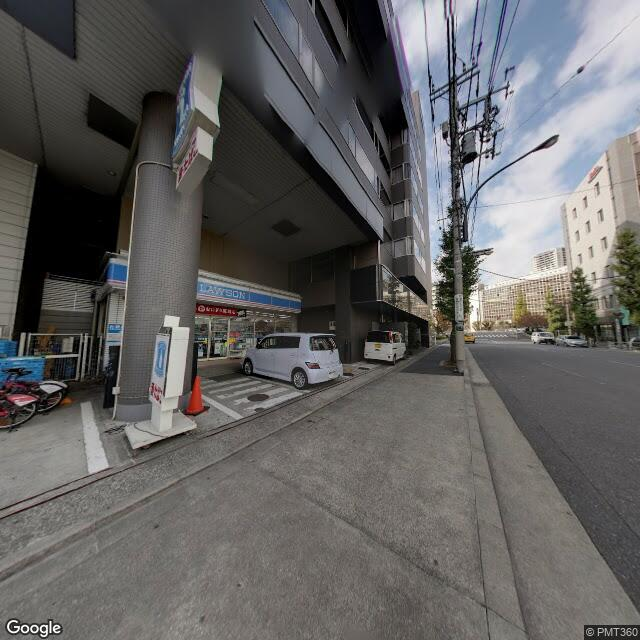lawson: (193, 274, 305, 315), (142, 336, 171, 385)
